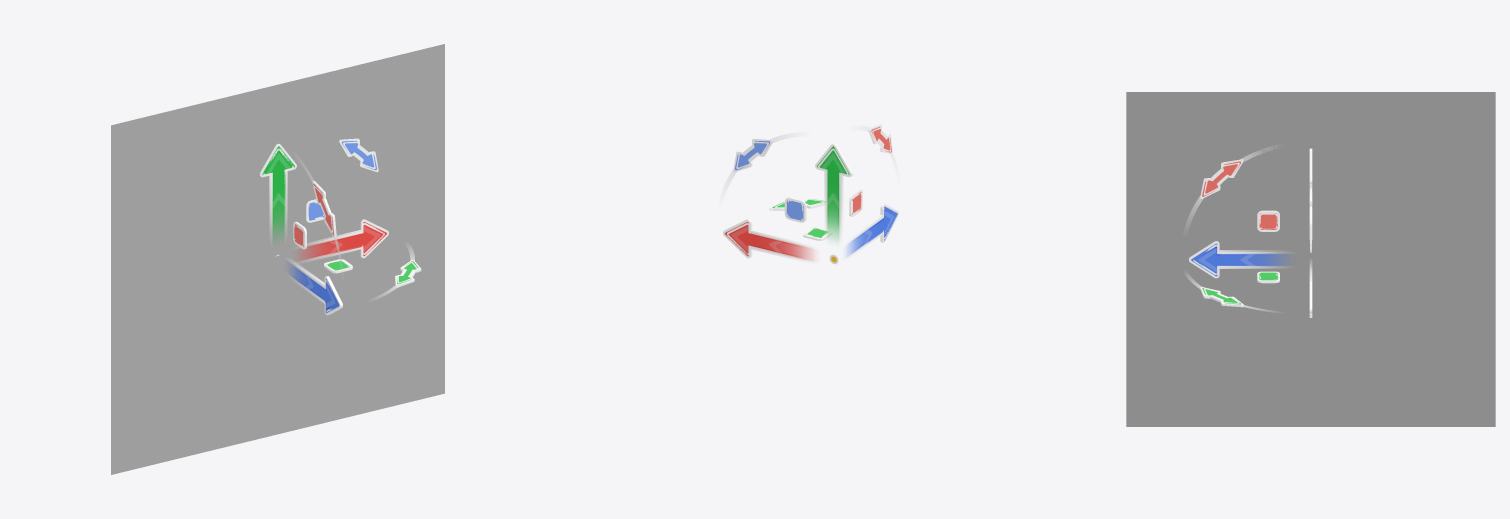
File: gizmo.glb
3 views of the same model, side by side, from view 1: azimuth 30°, elevation 25°; view 2: azimuth 150°, elevation 25°; view 3: azimuth 270°, elevation 25° (orthographic). The views are drawn at different scales.
Parts seen in each view (by area): view 1: rotate_rz_dimension_inner_activated, translate_y_hover, translate_x_normal, translate_y_normal, translate_x_hover, translate_z_hover, translate_z_normal; view 2: translate_y_normal, translate_x_normal, translate_x_hover, translate_z_hover, translate_y_hover, rotate_rz_normal; view 3: rotate_rx_dimension_inner_activated, translate_z_normal, translate_z_hover, rotate_rx_normal, translate_z_selected.
Boxes of the visible parts, x1,y1,x2,y2 form: rotate_rz_dimension_inner_activated: [111, 44, 444, 474]; translate_y_hover: [259, 143, 296, 233]; translate_x_normal: [301, 223, 384, 261]; translate_y_normal: [263, 148, 293, 237]; translate_x_hover: [306, 219, 388, 261]; translate_z_hover: [292, 261, 342, 315]; translate_z_normal: [290, 262, 331, 302]; translate_y_normal: [818, 148, 848, 237]; translate_x_normal: [727, 223, 810, 261]; translate_x_hover: [723, 218, 806, 261]; translate_z_hover: [849, 203, 898, 256]; translate_y_hover: [815, 143, 852, 233]; rotate_rz_normal: [720, 132, 802, 199]; rotate_rx_dimension_inner_activated: [1126, 92, 1495, 426]; translate_z_normal: [1193, 244, 1285, 274]; translate_z_hover: [1189, 241, 1280, 278]; rotate_rx_normal: [1185, 146, 1275, 228]; translate_z_selected: [1204, 245, 1272, 266].
Size of the model in its own units: 3000 by 3000 by 3000.
29 materials, 29 textured.
